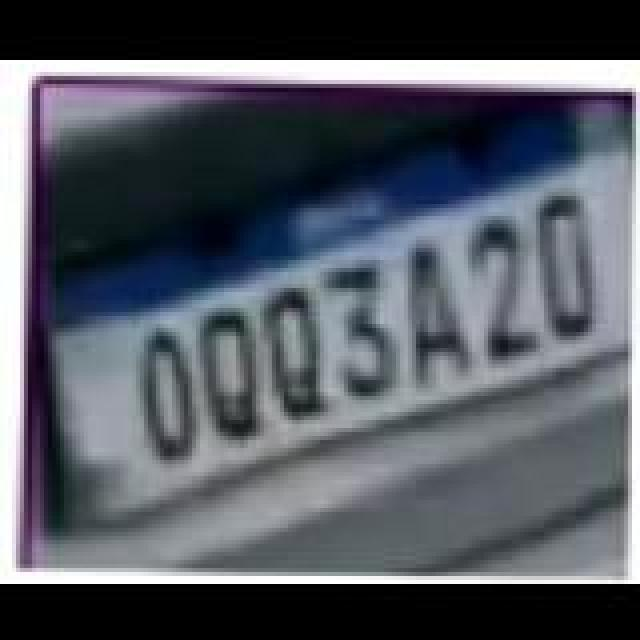2: (470, 216, 538, 360)
3: (328, 252, 400, 396)
A: (406, 240, 474, 384)
D: (538, 190, 598, 338)
O: (136, 328, 200, 464)
Q: (262, 284, 330, 420), (198, 308, 266, 444)
